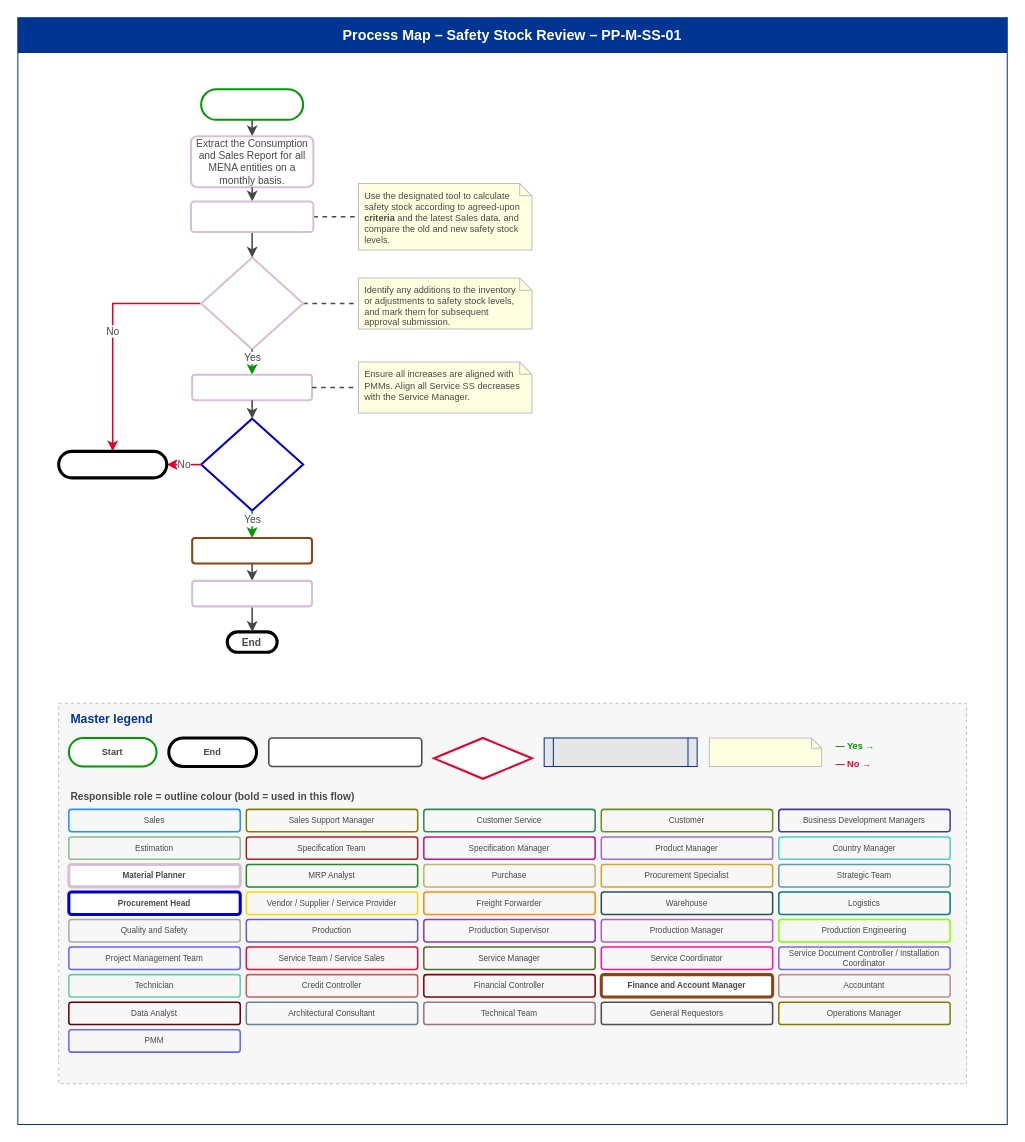
The diagram is 1025 pixels wide and 1142 high, and some of its shapes have lost their labels. Each missing label, with the centre of its shape:
"Activity (outline = role)" belongs at point 345,752.
"Approved?" belongs at point 252,464.
"Decision" belongs at point 482,757.
"Extract for approval" belongs at point 252,387.
"Finance review and approval" belongs at point 252,550.
"Linked process (Ref ID)" belongs at point 620,752.
"Mark no change" belongs at point 112,464.
"MP to update the SAP" belongs at point 252,593.
"Note / checklist" belongs at point 765,752.
"Safety Stock Calculation and Comparison" belongs at point 251,216.
"Safety Stock Review" belongs at point 252,104.
"Safety Stock to be added or Increased" belongs at point 252,303.
